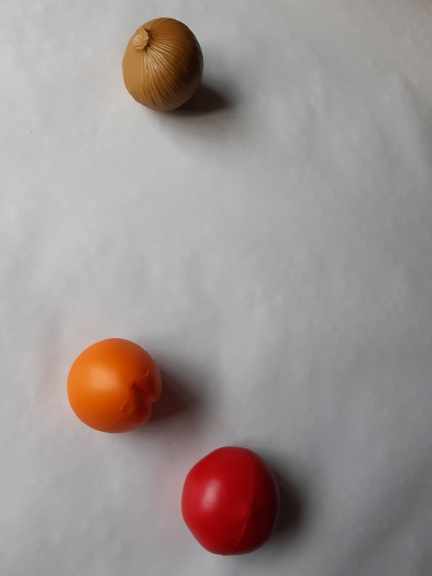apricot: (61, 325, 170, 438)
onion: (111, 13, 211, 117)
tomato: (178, 442, 285, 562)
